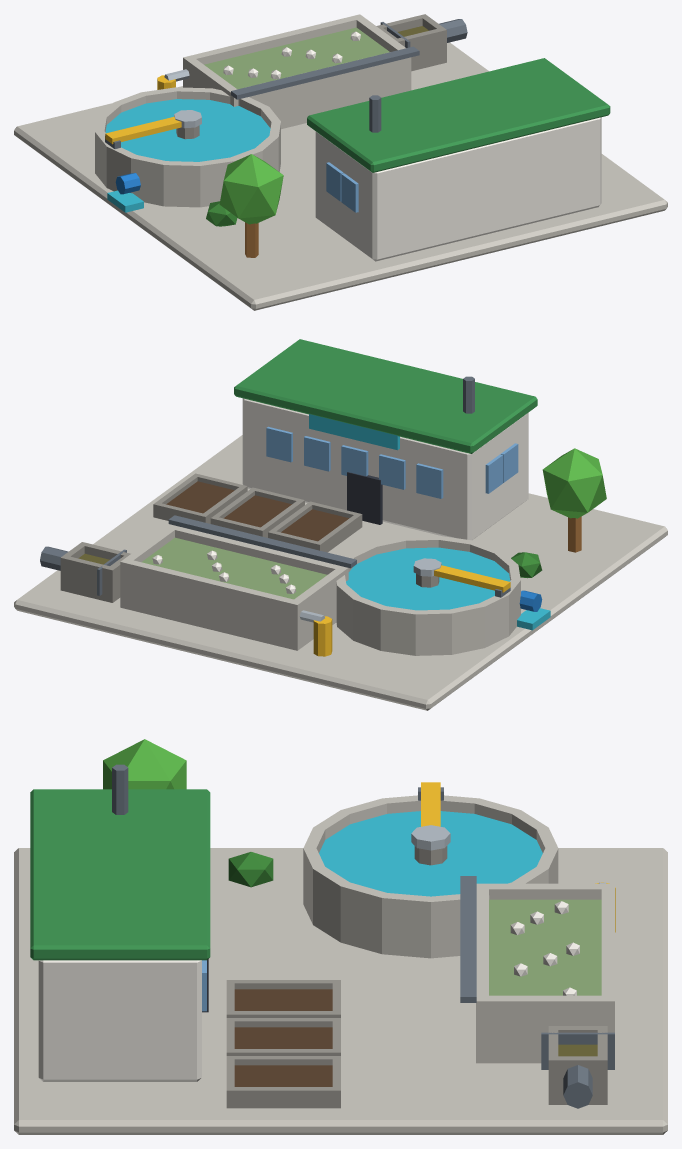
The model's file is treatment_plant.glb.
3 renders of one model, top to bottom at view 1: azimuth 30°, elevation 25°; view 2: azimuth 150°, elevation 25°; view 3: azimuth 270°, elevation 25°, orthographic. The views are drawn at different scales.
Parts seen in each view (by area): view 1: corpo, gira_1.001; view 2: corpo, gira_1.001; view 3: corpo, gira_1.001.
Part boxes in pixels (<box>): corpo: <box>14,14,667,310</box>; gira_1.001: <box>105,110,201,148</box>; corpo: <box>14,339,667,710</box>; gira_1.001: <box>413,558,510,597</box>; corpo: <box>14,739,667,1134</box>; gira_1.001: <box>411,782,450,850</box>.
Bounding box in the file's own units: 4.04 × 1.35 × 4.
